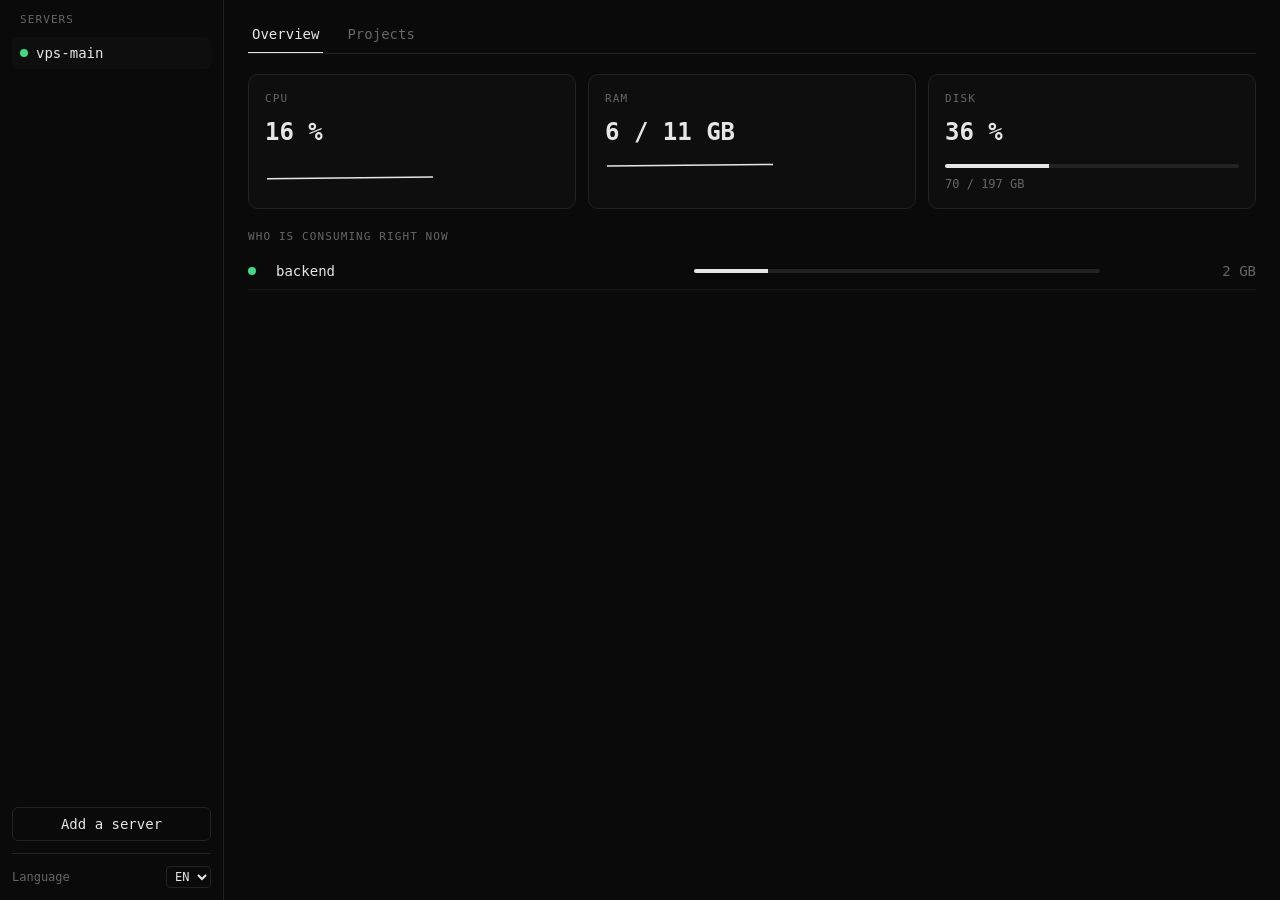
it: App › walks from the overview to a project and restarts it only after confirmation
The width and height of the screenshot is (1280, 900).
Expected: the text "vps-main" is shown, [36,42,103,62]
Click the text "backend": coordinates (306, 271) [276,263,335,279]
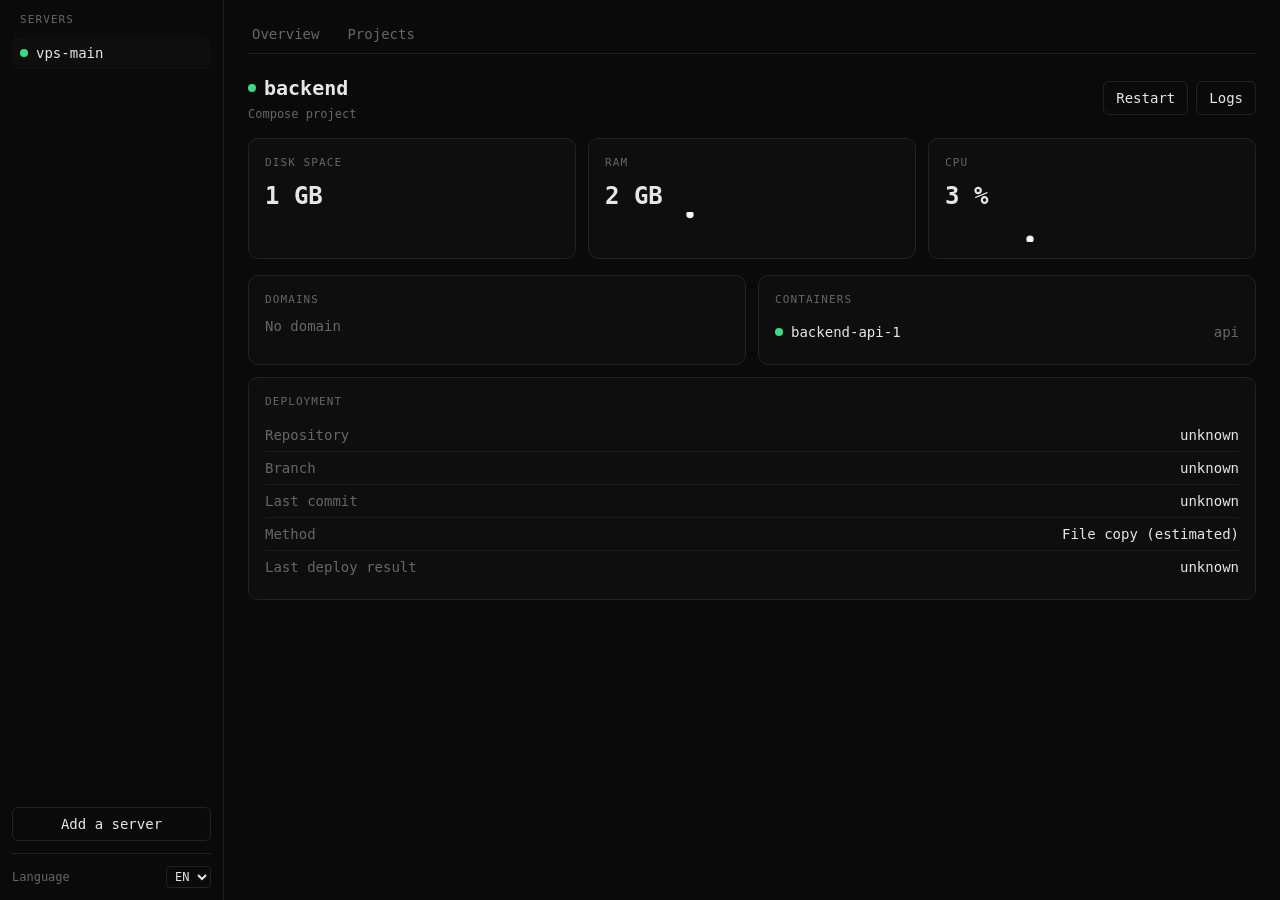
Click the button "Restart": coordinates (1146, 98) [1103,81,1188,115]
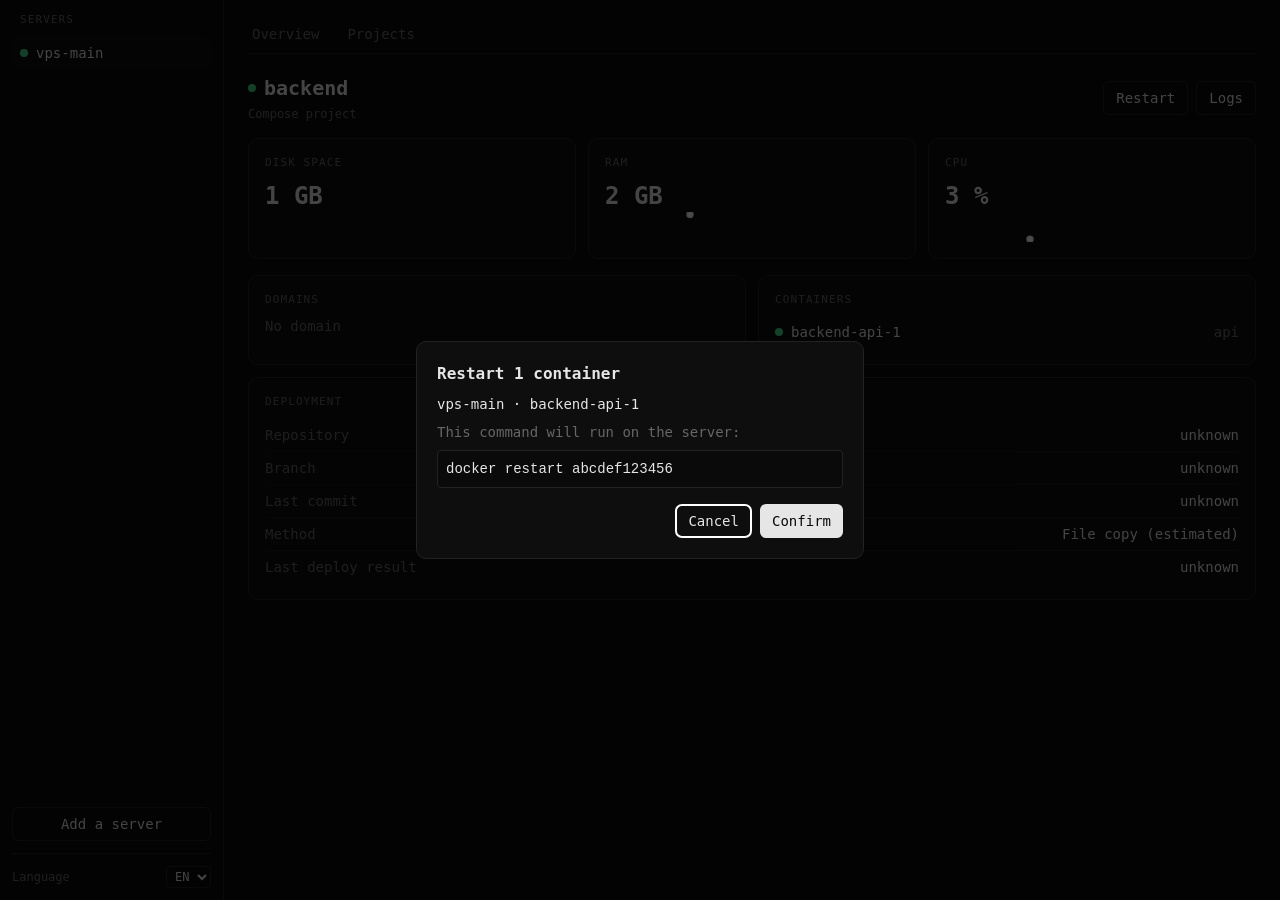
Expected: the text "docker restart abcdef123456" is shown, [437,450,843,488]
Click the button "Cancel": coordinates (714, 521) [675,504,752,538]
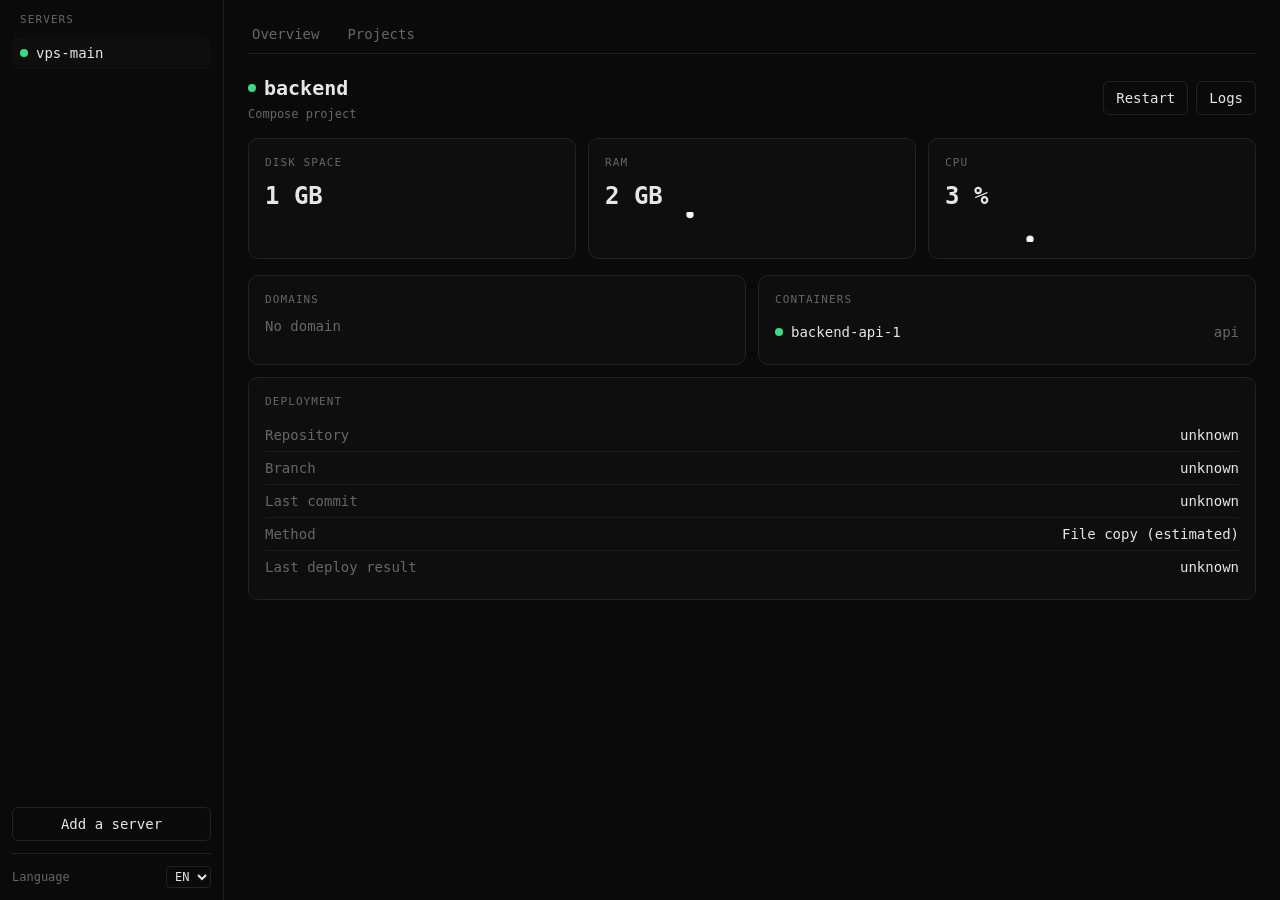
Click the button "Restart": coordinates (1146, 98) [1103,81,1188,115]
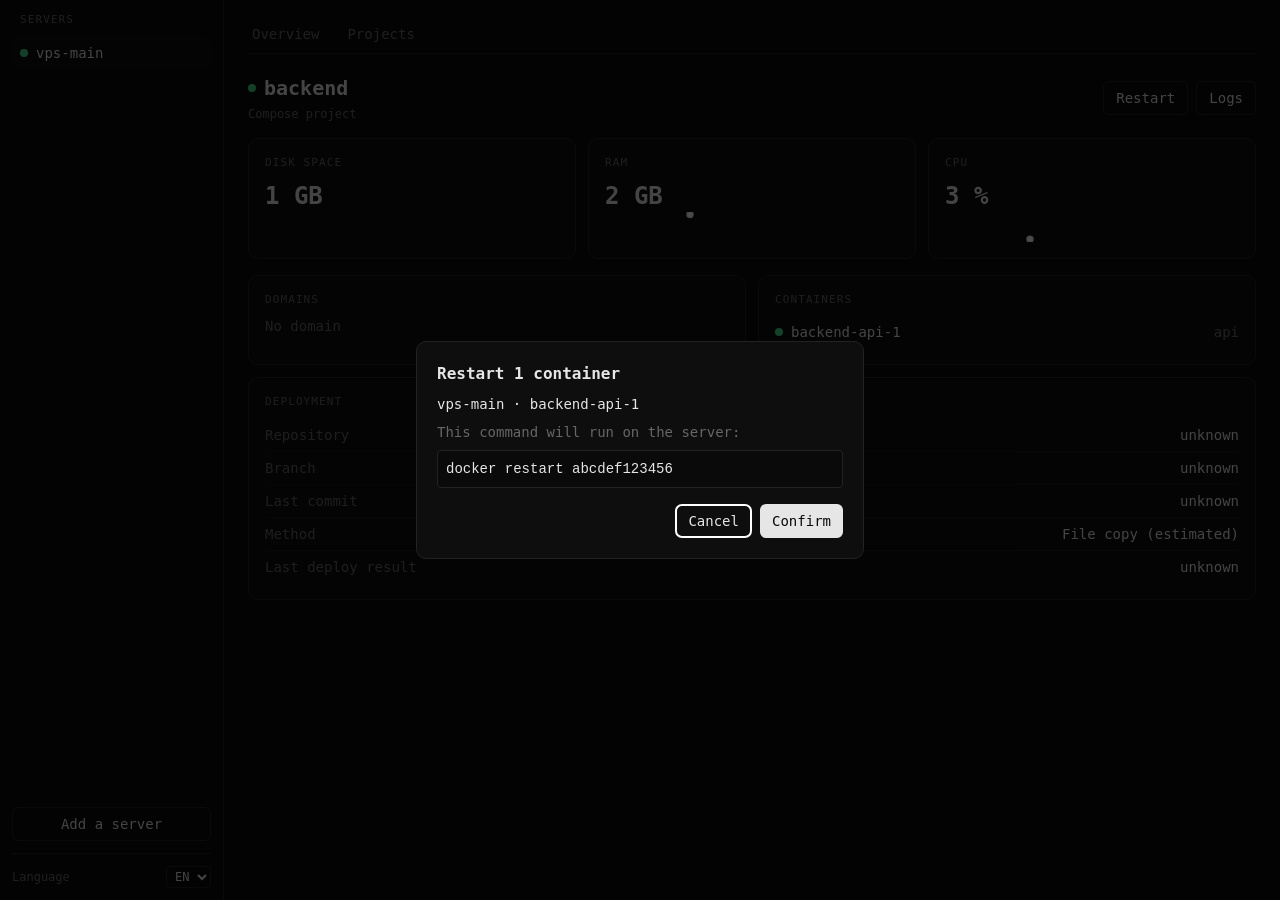
Click the button "Confirm": coordinates (802, 521) [760,504,843,538]
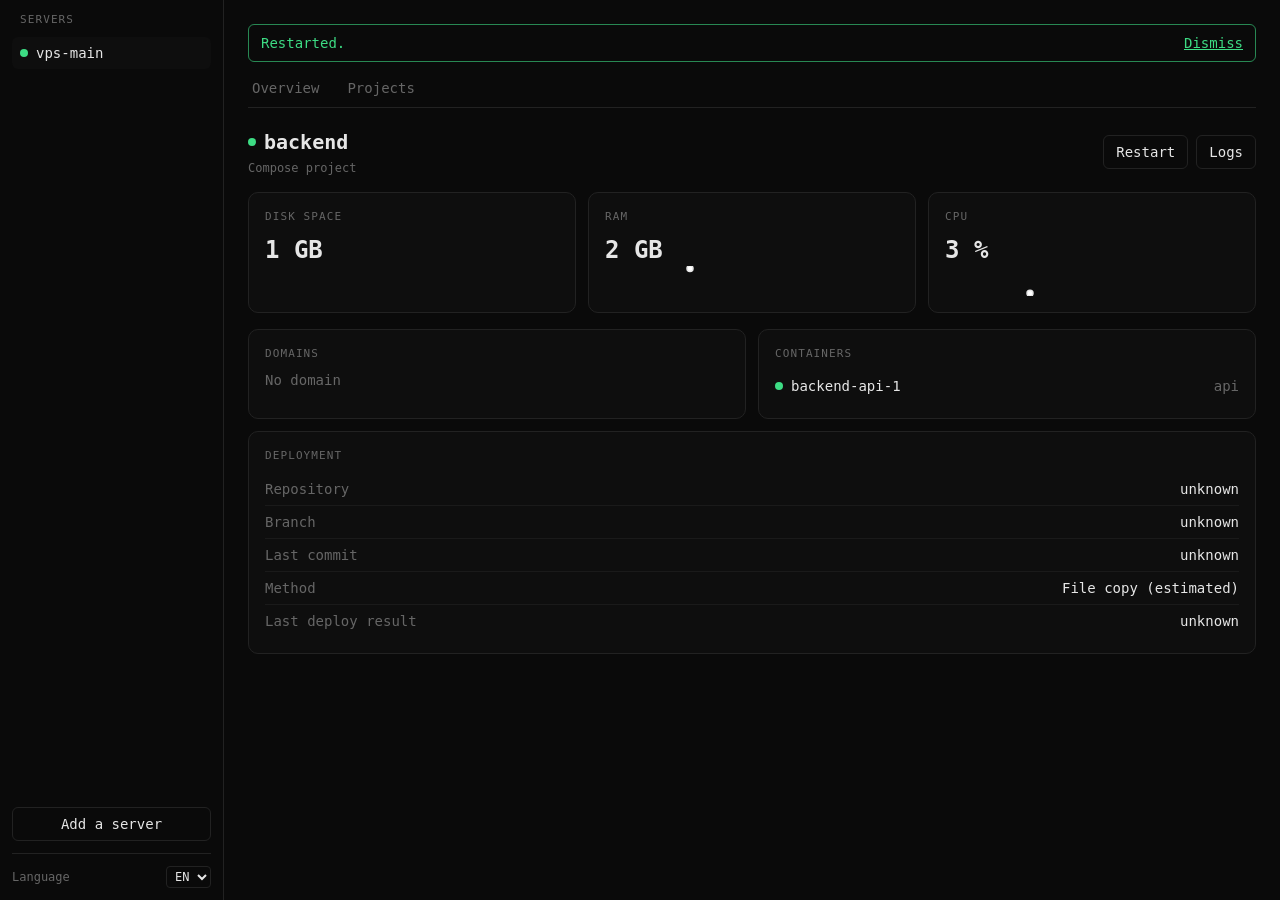
Expected: the text "Restarted." is shown, [261,33,345,53]
